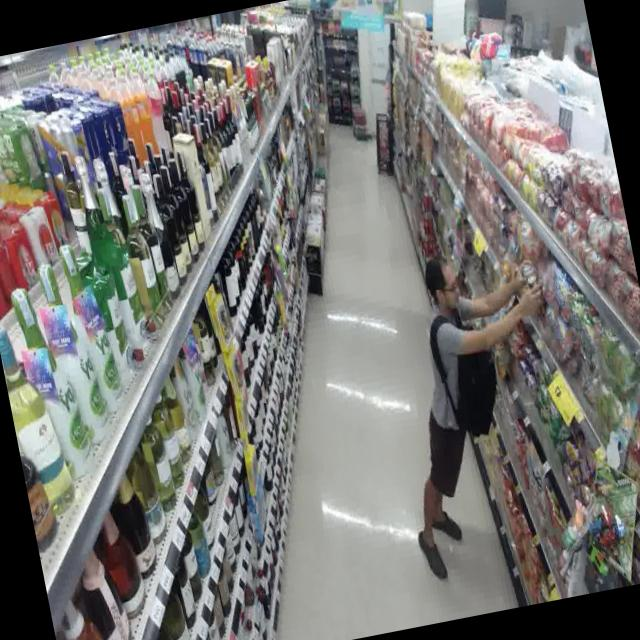pickup: (350, 220, 603, 593)
